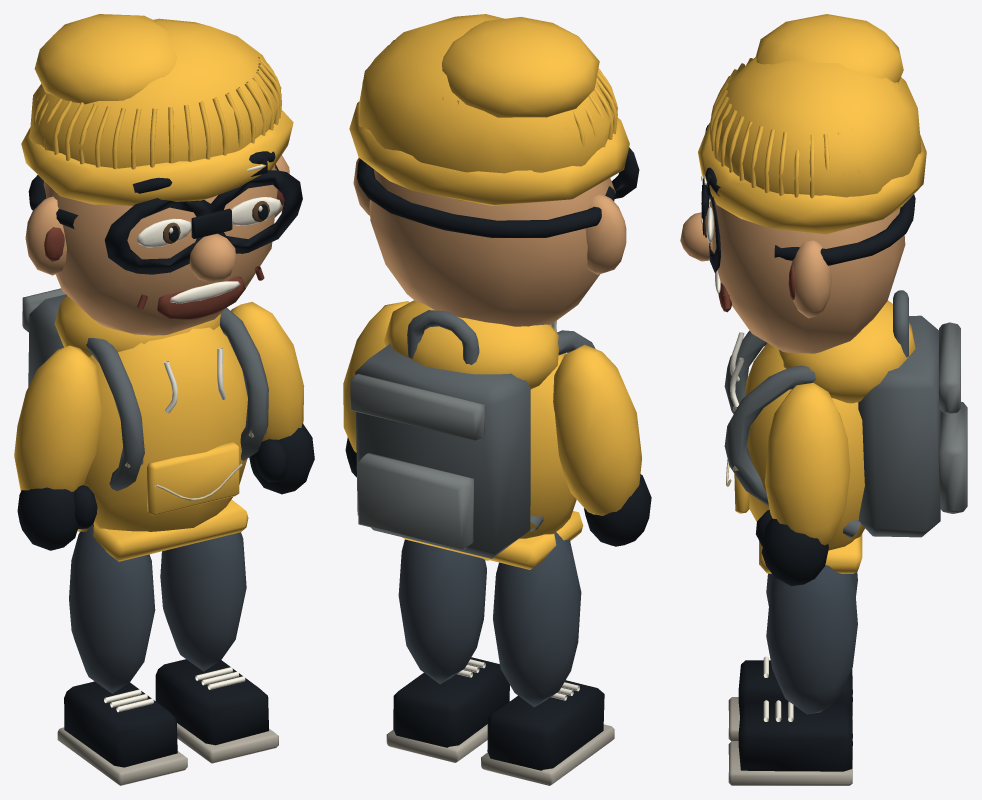
The model's file is burglar.glb.
The picture shows the model from 3 angles, left to right: view 1: azimuth 30°, elevation 25°; view 2: azimuth 150°, elevation 25°; view 3: azimuth 270°, elevation 25°; orthographic projection. The views are drawn at different scales.
Parts seen in each view (by area): view 1: Head_Cloth, Burglar_Cloth, Head_Skin, TrouserL, SleeveL, TrouserR, Burglar_Backpack, Head_Mask, SneakerL, SneakerR, SleeveR, ArmL_Mask (+9 smaller); view 2: Head_Cloth, Head_Skin, Burglar_Backpack, Burglar_Cloth, Burglar_BagTrim, SleeveL, TrouserL, TrouserR, SneakerL, SneakerR, Head_Mask, ArmL_Mask (+3 smaller); view 3: Head_Cloth, Burglar_Backpack, Head_Skin, Burglar_Cloth, SleeveR, TrouserR, SneakerR, Burglar_BagTrim, ArmR_Mask, Head_Mask, SoleR, SneakerL (+1 smaller).
Boxes of the visible parts, box(x1,y1,x2,y2) form: Head_Cloth: box(21, 14, 293, 205); Burglar_Cloth: box(54, 295, 248, 561); Head_Skin: box(25, 155, 289, 335); TrouserL: box(69, 524, 155, 693); SleeveL: box(14, 345, 101, 491); TrouserR: box(160, 532, 246, 671); Burglar_Backpack: box(28, 294, 268, 490); Head_Mask: box(28, 151, 302, 274); SneakerL: box(64, 681, 177, 767); SneakerR: box(155, 659, 268, 745); SleeveR: box(231, 301, 304, 441); ArmL_Mask: box(17, 485, 97, 550); Head_Cloth: box(349, 14, 629, 205); Head_Skin: box(353, 158, 626, 326); Burglar_Backpack: box(355, 310, 595, 558); Burglar_Cloth: box(383, 300, 583, 569); Burglar_BagTrim: box(350, 373, 484, 549); SleeveL: box(553, 344, 641, 515); TrouserL: box(493, 532, 581, 707); TrouserR: box(398, 539, 486, 684); SneakerL: box(487, 680, 604, 770); SneakerR: box(393, 657, 509, 747); Head_Mask: box(357, 147, 639, 237); ArmL_Mask: box(584, 474, 651, 546); Head_Cloth: box(698, 14, 926, 234); Burglar_Backpack: box(724, 290, 940, 537); Head_Skin: box(680, 200, 905, 353); Burglar_Cloth: box(734, 300, 915, 573); SleeveR: box(764, 383, 850, 545); TrouserR: box(766, 565, 857, 714); SneakerR: box(738, 704, 852, 771); Burglar_BagTrim: box(938, 322, 967, 513); ArmR_Mask: box(756, 510, 828, 586); Head_Mask: box(701, 125, 915, 272); SoleR: box(728, 741, 852, 785); SneakerL: box(738, 660, 852, 716).
Bounding box in the file's own units: 1.07 × 2.54 × 0.939.
